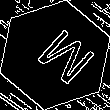M_SW: (20, 21, 90, 89)
